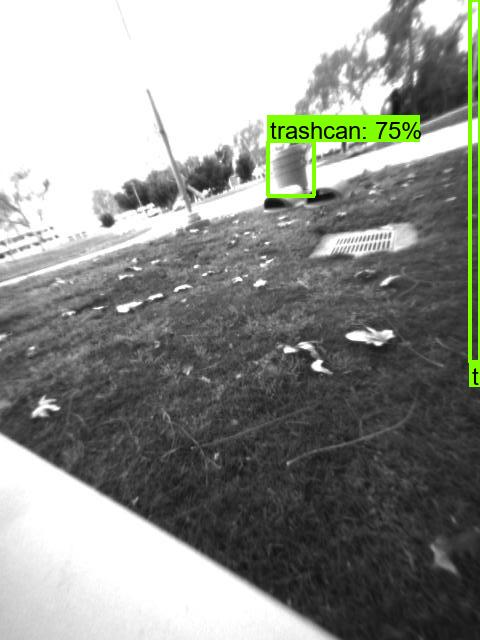trashcan: (267, 137, 311, 192)
